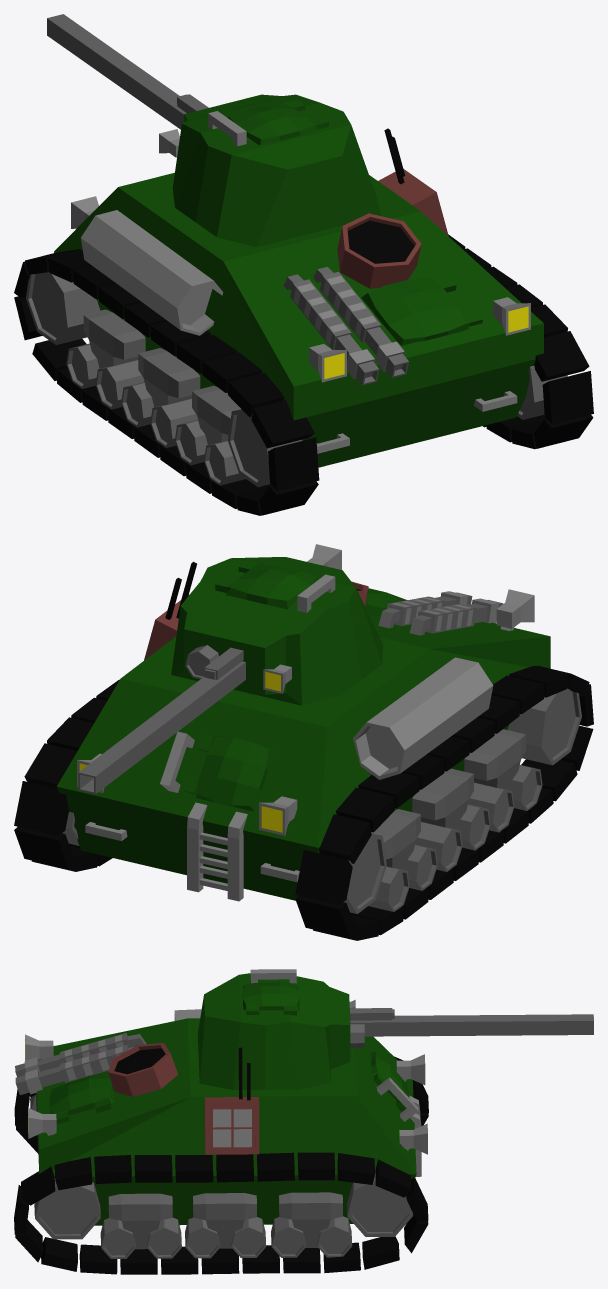
The model's file is default_tank.glb.
3 views of the same model, one above another, from view 1: azimuth 30°, elevation 25°; view 2: azimuth 150°, elevation 25°; view 3: azimuth 270°, elevation 25° (orthographic). The views are drawn at different scales.
Visible parts, largest first — view 1: Cube.020, Cube.002; view 2: Cube.020, Cube.002; view 3: Cube.020, Cube.002.
Boxes of the visible parts, left/top/right/bottom form: Cube.020: left=14, top=128, right=593, bottom=515; Cube.002: left=47, top=14, right=381, bottom=247; Cube.020: left=14, top=544, right=593, bottom=940; Cube.002: left=78, top=557, right=382, bottom=794; Cube.020: left=14, top=1009, right=428, bottom=1274; Cube.002: left=197, top=969, right=593, bottom=1089.
Size of the model in its own units: 258 by 210 by 494.
